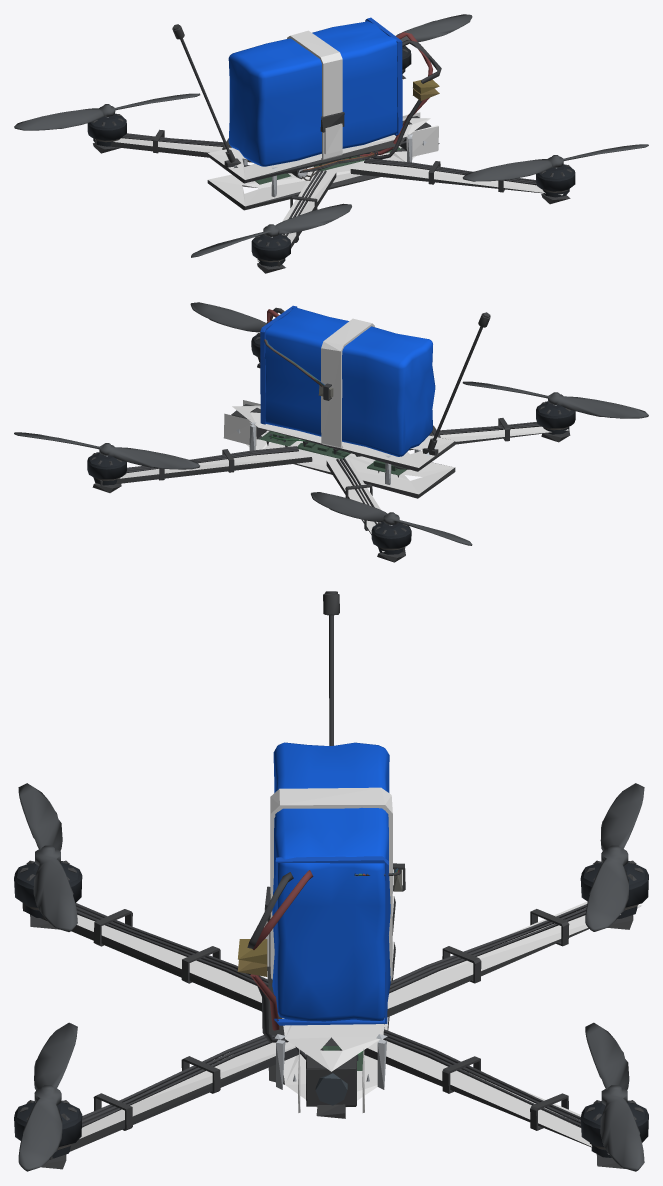
File: Assembled_LOD1.glb
3 renders of one model, top to bottom at view 1: azimuth 30°, elevation 25°; view 2: azimuth 150°, elevation 25°; view 3: azimuth 270°, elevation 25°, orthographic. The views are drawn at different scales.
Parts seen in each view (by area): view 1: Antenna_BracketBolt.001_LOD1.001; view 2: Antenna_BracketBolt.001_LOD1.001; view 3: Antenna_BracketBolt.001_LOD1.001.
Boxes of the visible parts, x1,y1,x2,y2 form: Antenna_BracketBolt.001_LOD1.001: (14,14,648,273); Antenna_BracketBolt.001_LOD1.001: (14,302,648,562); Antenna_BracketBolt.001_LOD1.001: (14,591,648,1171).
Size of the model in its own units: 0.4662 by 0.1816 by 0.325.
